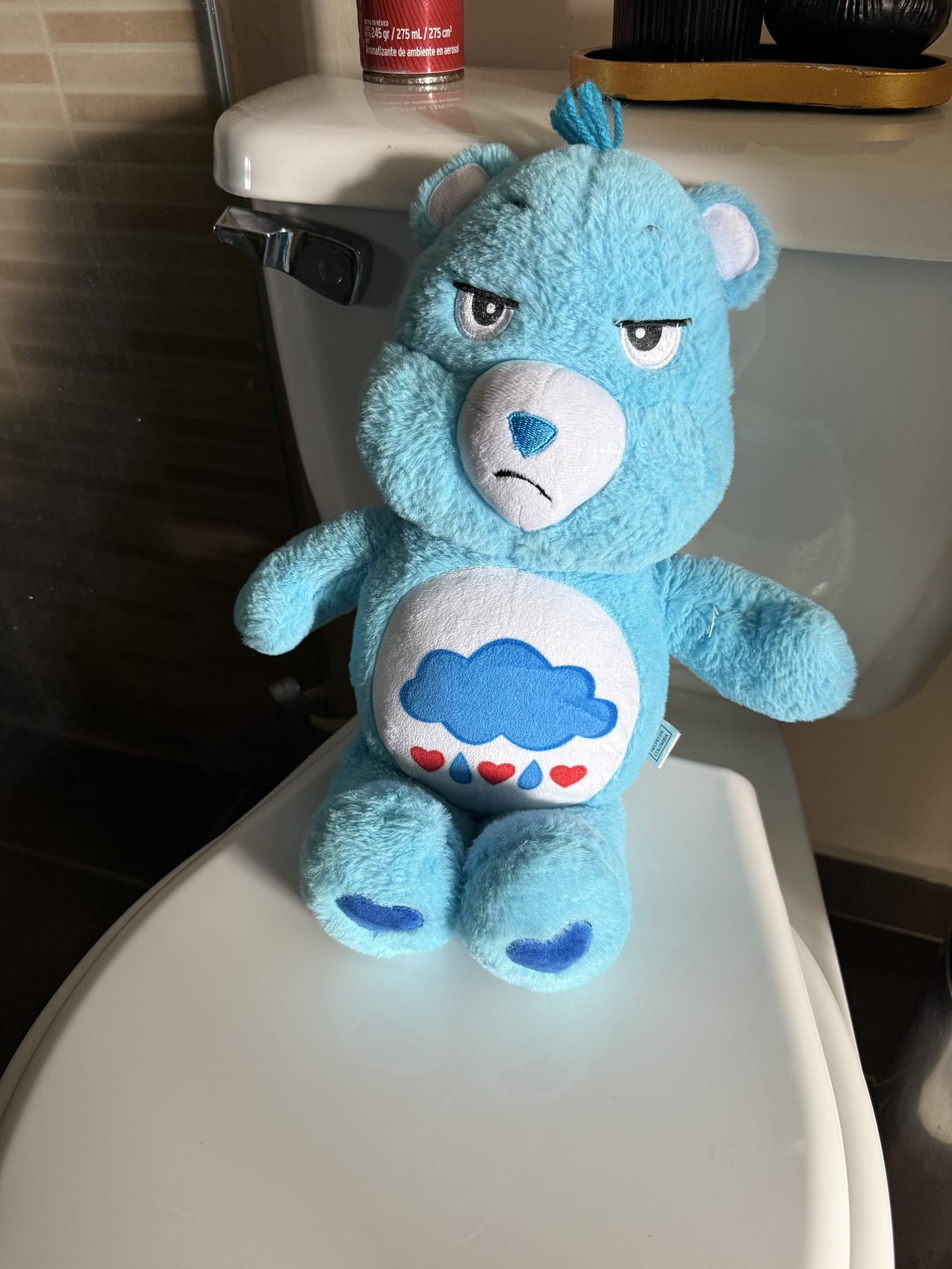peluche_Juan Jose: (324, 156, 740, 982)
